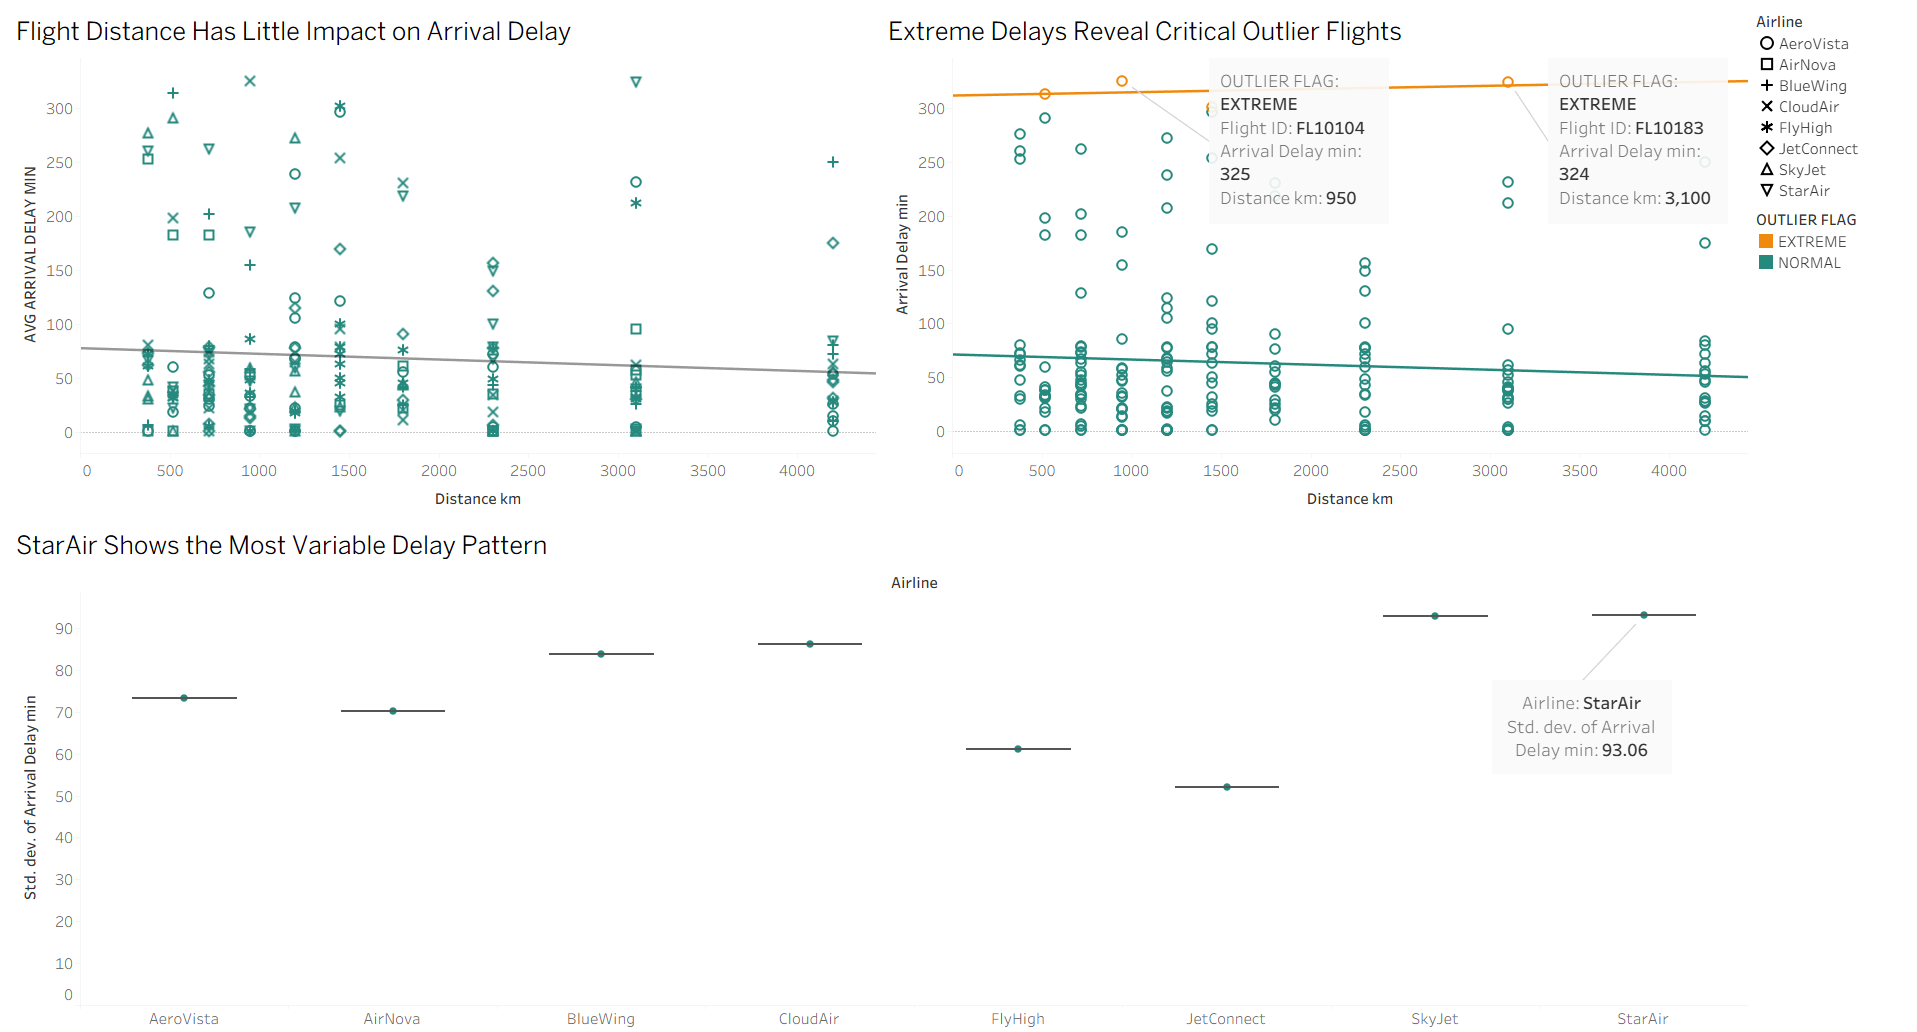

Layout of this report page (visuals, bound fields, positions):
{"tool":"tableau","page":{"name":"Dashboard 4","canvas":[1000,1000],"units":"permille","ordinal":3},"visuals":[{"type":"worksheet","title":"D1.RELATIONSHIP ANALYSIS","mark":"Automatic","rows":["Calculation_0772175299403781"],"cols":["Distance_km"],"box":[4.8,9.4,446.9,490.6]},{"type":"worksheet","title":"D2. Identify two unusual/outlier flights from the scatter plot.","mark":"Automatic","rows":["Arrival_Delay_min"],"cols":["Distance_km"],"box":[451.7,9.4,446.9,490.6]},{"type":"legend","title":"D1.RELATIONSHIP ANALYSIS","param":"[federated.0cniu2b1ezr26e1fi3ztb1c9pnie].[none:Airline:nk]","box":[898.6,9.4,96.6,232.7]},{"type":"legend","title":"D2. Identify two unusual/outlier flights from the scatter plot.","param":"[federated.0cniu2b1ezr26e1fi3ztb1c9pnie].[none:Calculation_0772175302475782:nk]","box":[898.6,242.1,96.6,84.6]},{"type":"worksheet","title":"D4. Which airline appears to have the most unusual delay pattern?","mark":"Circle","rows":["Arrival_Delay_min"],"cols":["Airline"],"box":[4.8,500,893.8,490.6]}]}

Visuals, with their boxes on the dashboard's canvas, which has no fixed pixel size, in thousandths of its width and height (x1, y1, x2, y2). These are canvas units, not pixel positions in the 1917x1032 screenshot, which may show the page scaled, cropped or inside an application window:
"D1.RELATIONSHIP ANALYSIS" worksheet: region(5, 9, 452, 500)
"D2. Identify two unusual/outlier flights from the scatter plot." worksheet: region(452, 9, 899, 500)
"D1.RELATIONSHIP ANALYSIS" legend: region(899, 9, 995, 242)
"D2. Identify two unusual/outlier flights from the scatter plot." legend: region(899, 242, 995, 327)
"D4. Which airline appears to have the most unusual delay pattern?" worksheet (Circle marks): region(5, 500, 899, 991)
